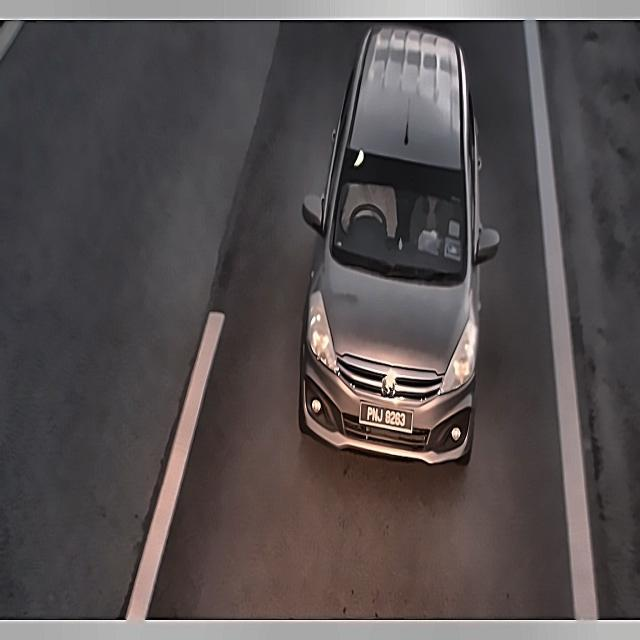car: (358, 397, 421, 436)
